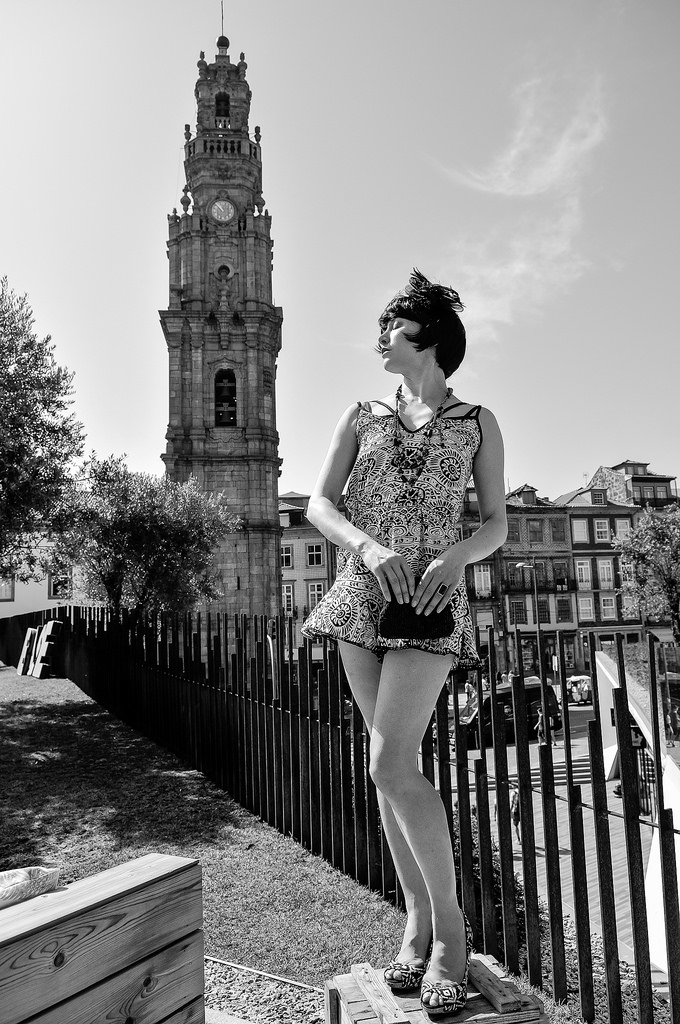clerigos: (159, 0, 286, 692)
